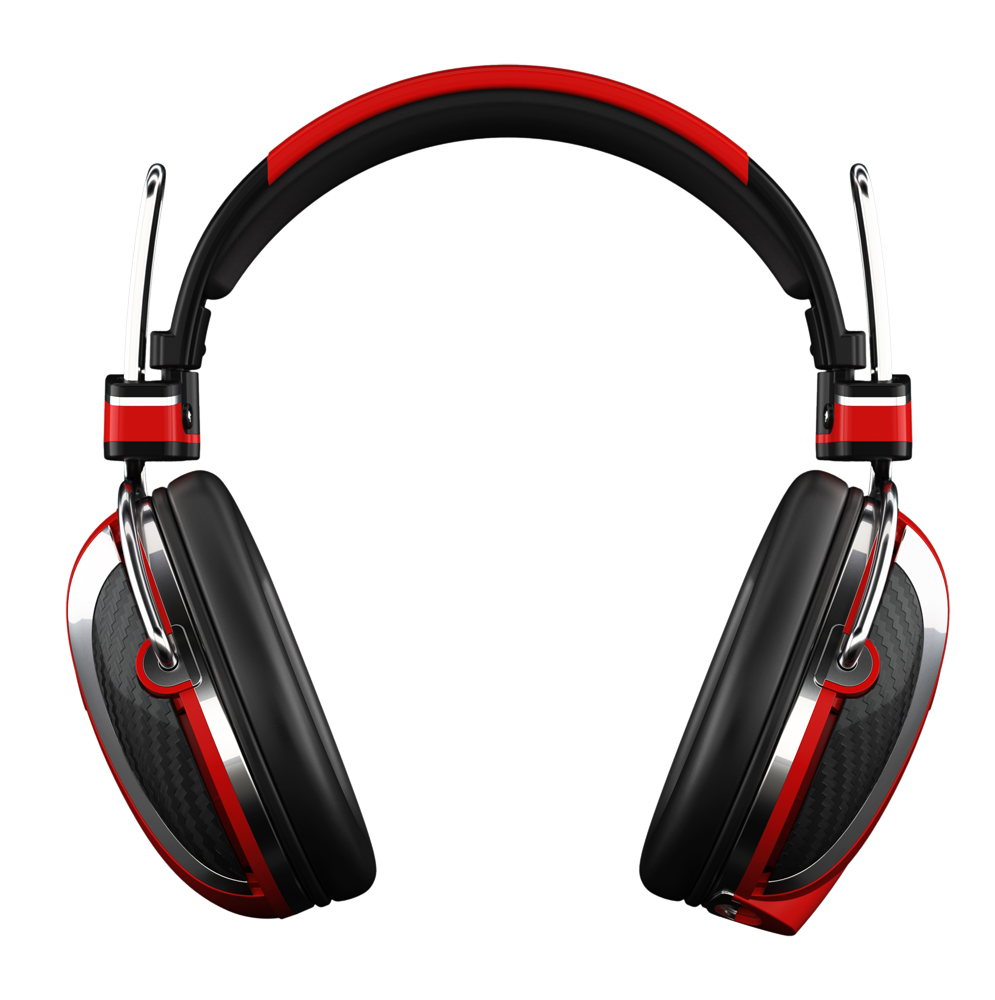headphone: (64, 50, 994, 994)
